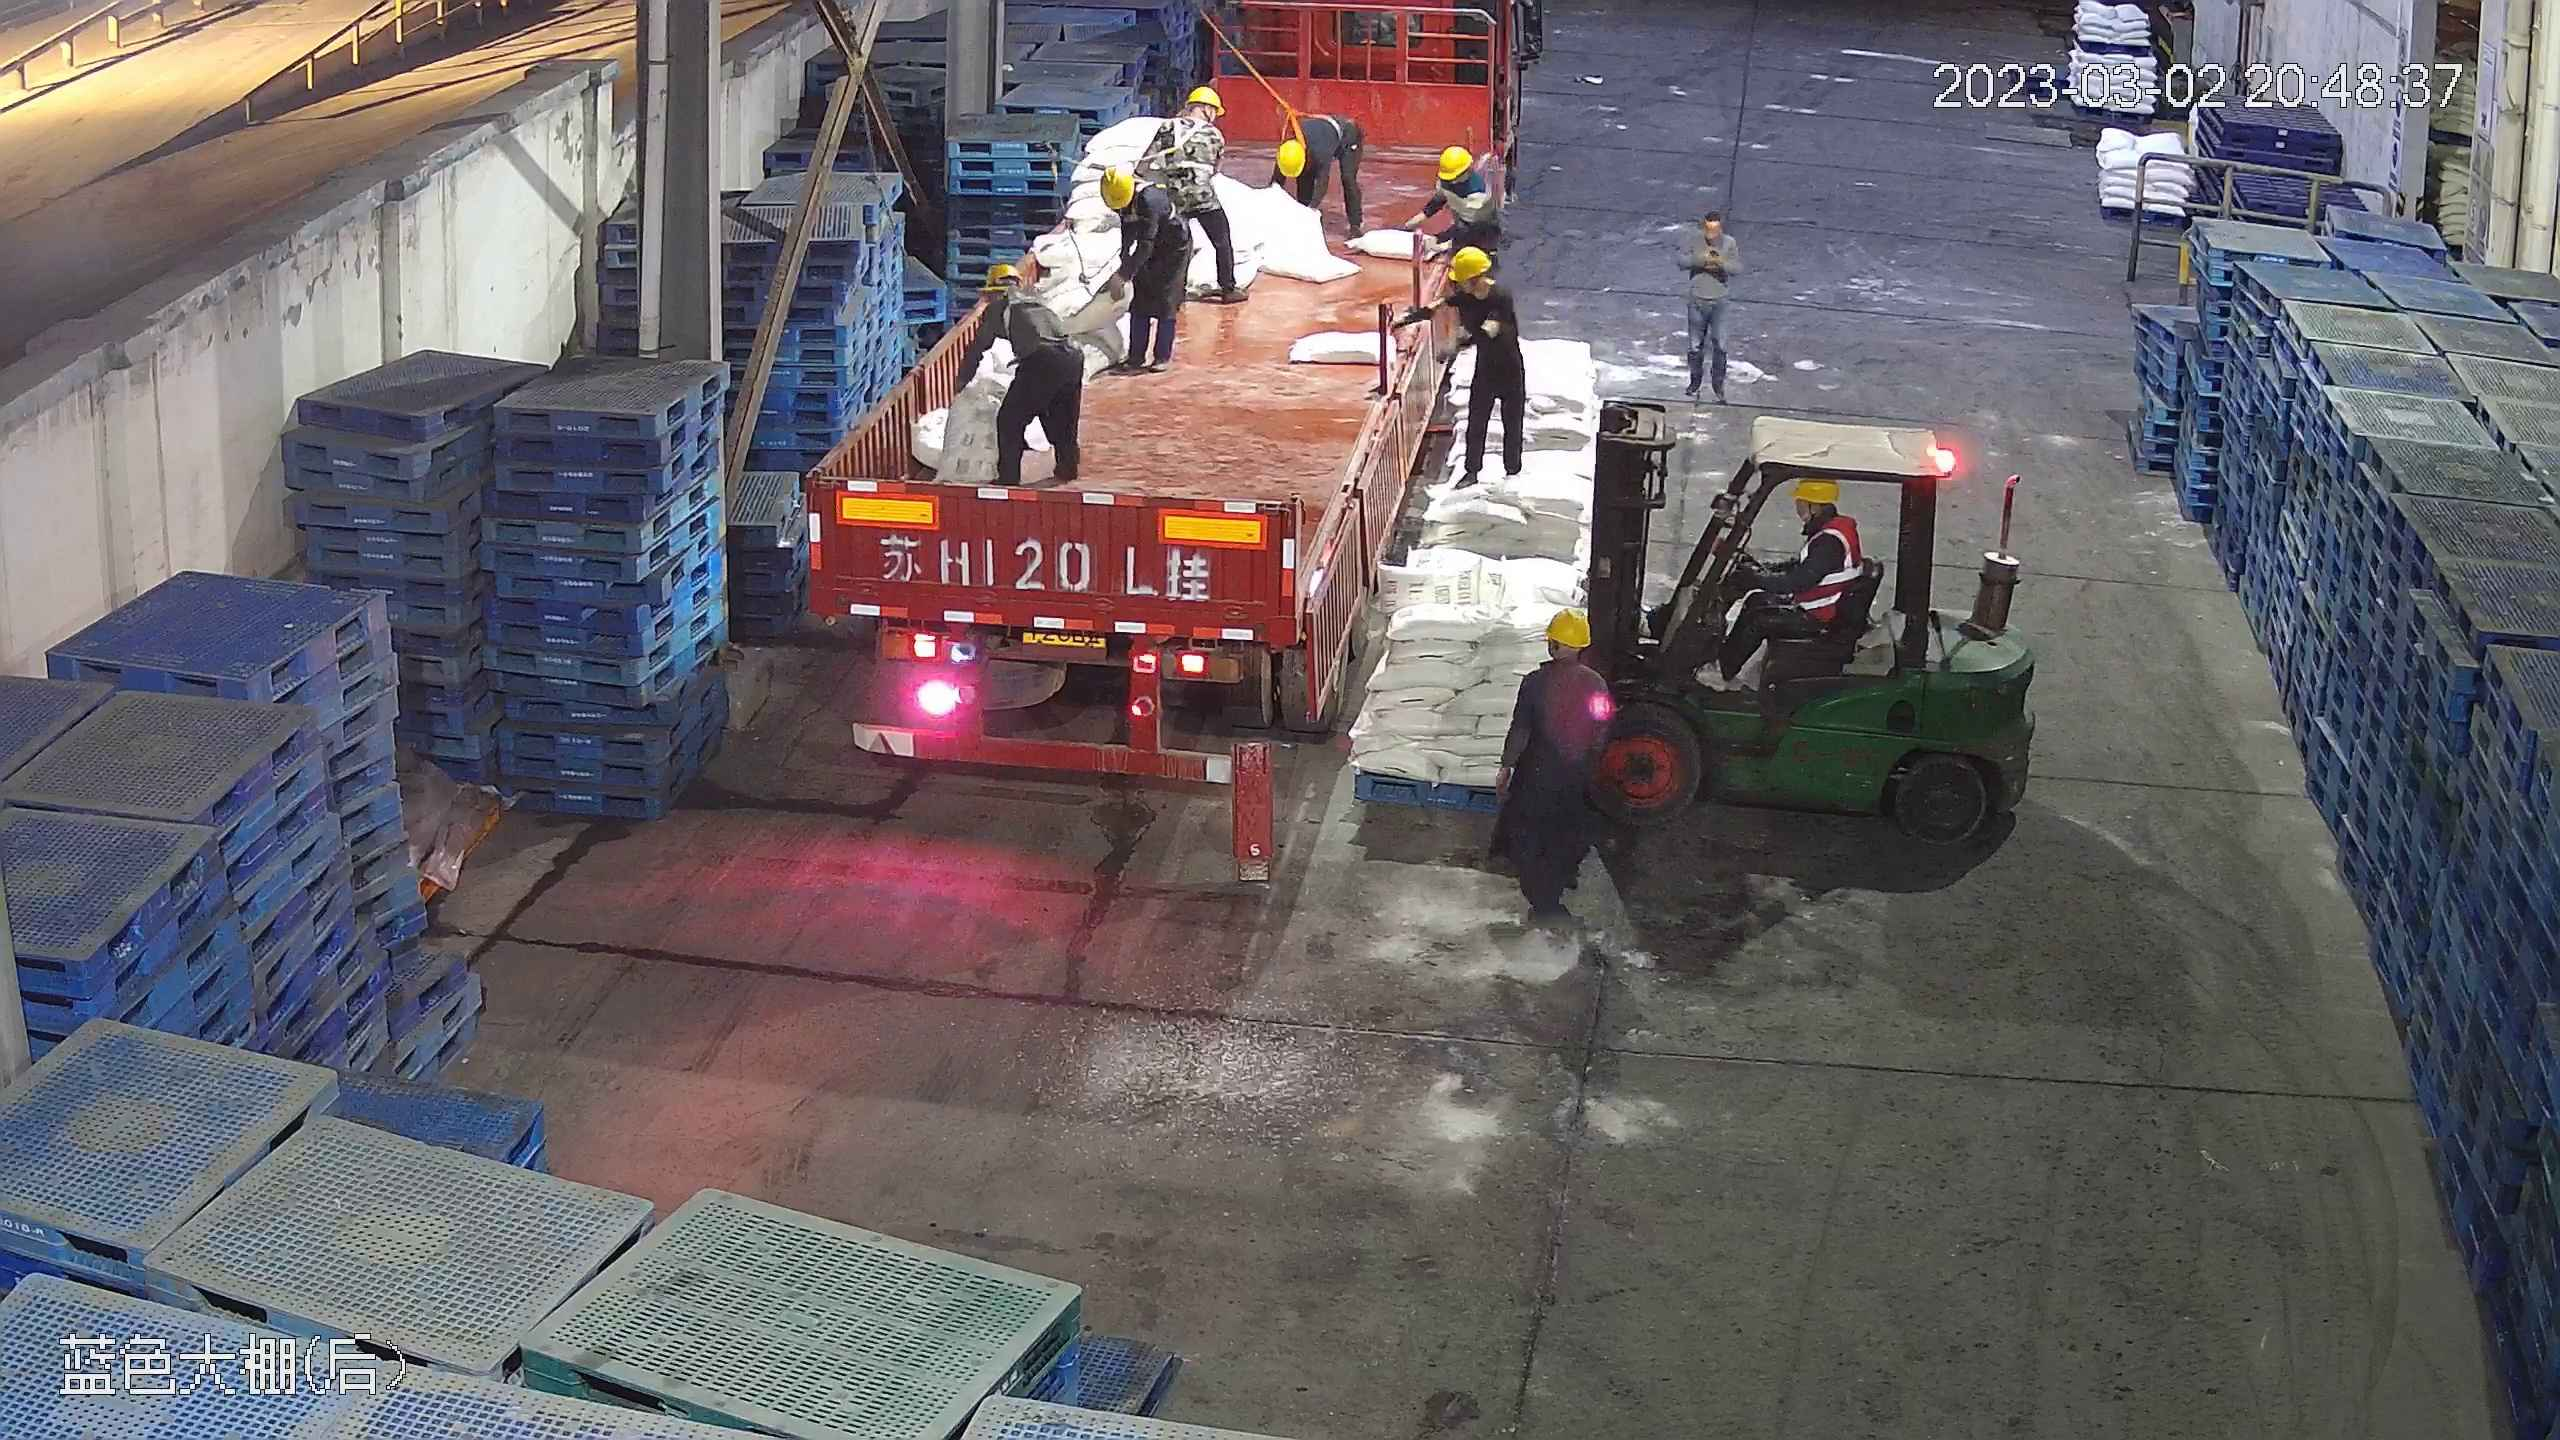belt: (1000, 280, 1065, 340), (1117, 186, 1183, 243), (1147, 121, 1209, 175), (1278, 92, 1339, 146)
head: (1513, 607, 1612, 718), (1782, 473, 1860, 569), (1098, 163, 1181, 237), (979, 261, 1061, 336), (1446, 249, 1517, 333), (1150, 85, 1229, 154), (1430, 146, 1496, 218), (1683, 205, 1742, 274), (1273, 121, 1341, 178)
helmet: (1544, 606, 1594, 645), (1097, 164, 1135, 210), (1273, 131, 1308, 178), (1789, 474, 1840, 503), (1435, 143, 1474, 180), (1448, 247, 1490, 280), (1185, 84, 1223, 117), (981, 261, 1020, 292)
people: (1477, 601, 1619, 951), (1705, 468, 1868, 691), (961, 260, 1089, 492), (1445, 243, 1529, 487), (1095, 166, 1191, 370), (1137, 83, 1228, 288), (1674, 203, 1746, 405), (1262, 113, 1372, 241)
truck: (812, 57, 1457, 787)
